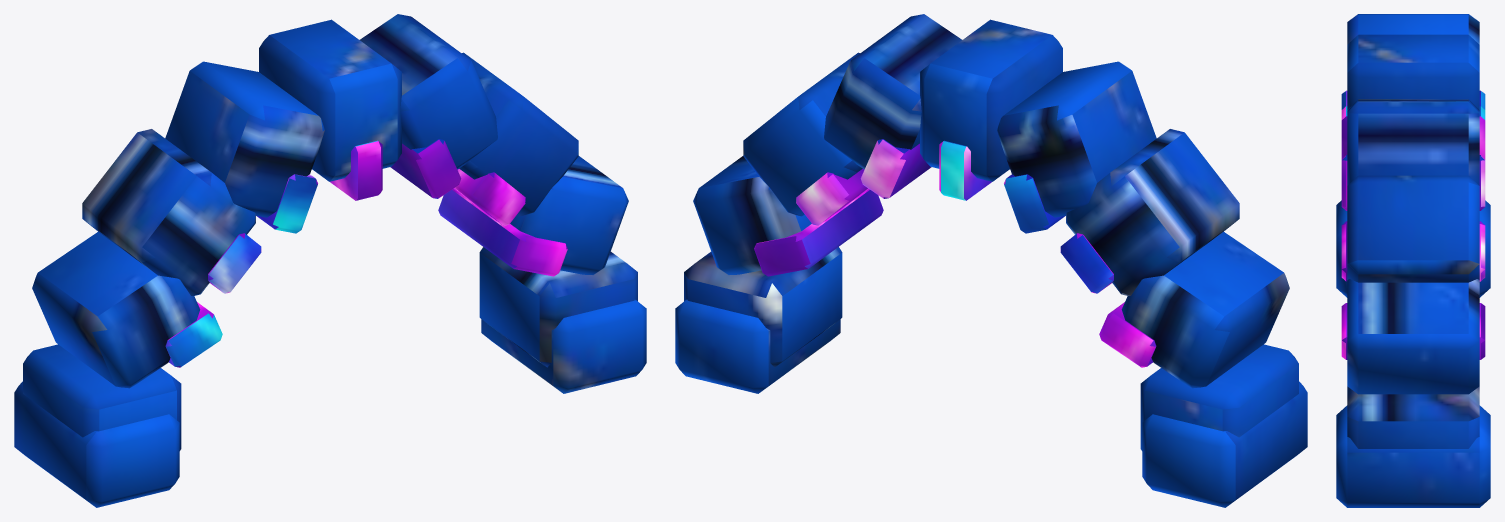
The model's file is tunel_arco.glb.
The picture shows the model from 3 angles, left to right: view 1: azimuth 30°, elevation 25°; view 2: azimuth 150°, elevation 25°; view 3: azimuth 270°, elevation 25°; orthographic projection. The views are drawn at different scales.
Parts seen in each view (by area): view 1: tunel_arco; view 2: tunel_arco; view 3: tunel_arco.
Part boxes in pixels (<box>): tunel_arco: <box>14,14,646,507</box>; tunel_arco: <box>675,14,1307,507</box>; tunel_arco: <box>1336,14,1490,507</box>.
Size of the model in its own units: 1 by 0.625 by 0.2593.
Materials: 2 (2 with a texture image).
